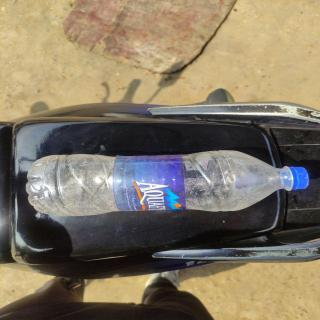Plastic-bottle: (25, 148, 314, 220)
